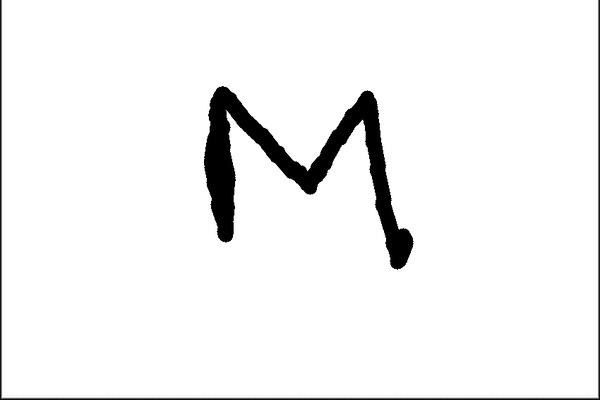M: (203, 85, 416, 268)
